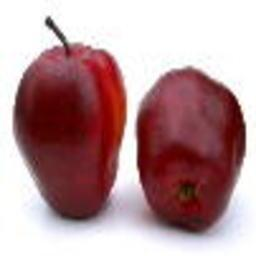apple: (15, 43, 128, 219), (136, 69, 245, 234)
